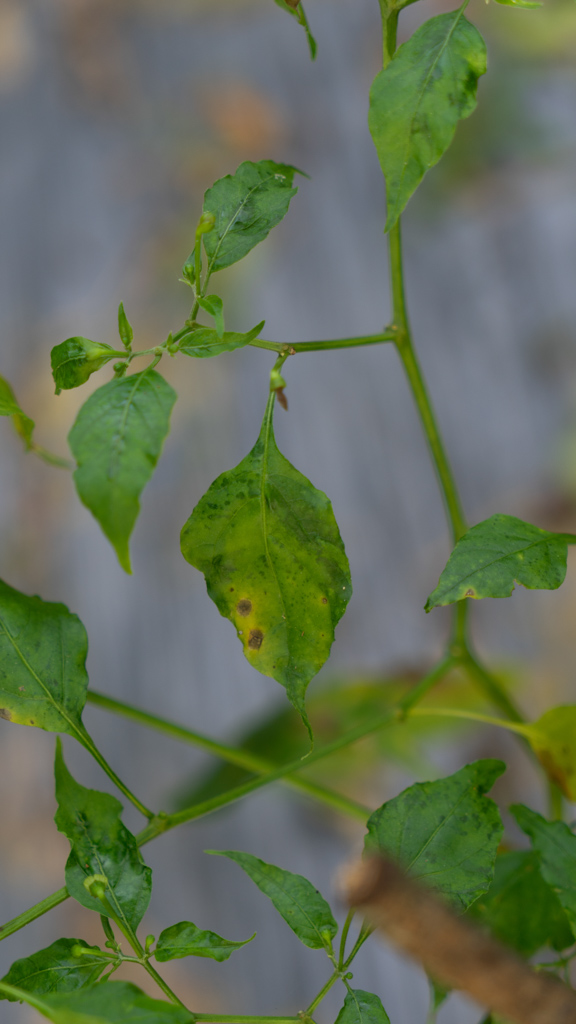Canker: (242, 626, 273, 650), (232, 595, 257, 617), (460, 585, 483, 601)
